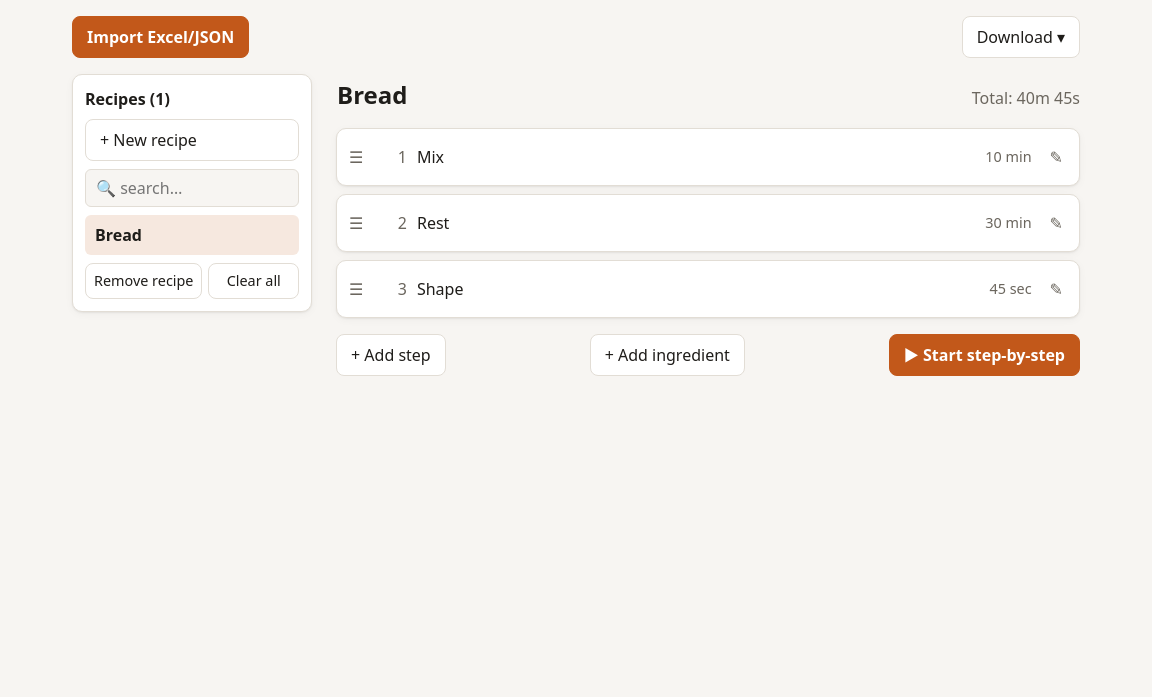
Test: switching a step to ingredient renumbers
Earlier steps of the test are not shown.
Click the button named "Edit step 1" at (1056, 157), box [1042,139,1071,175]
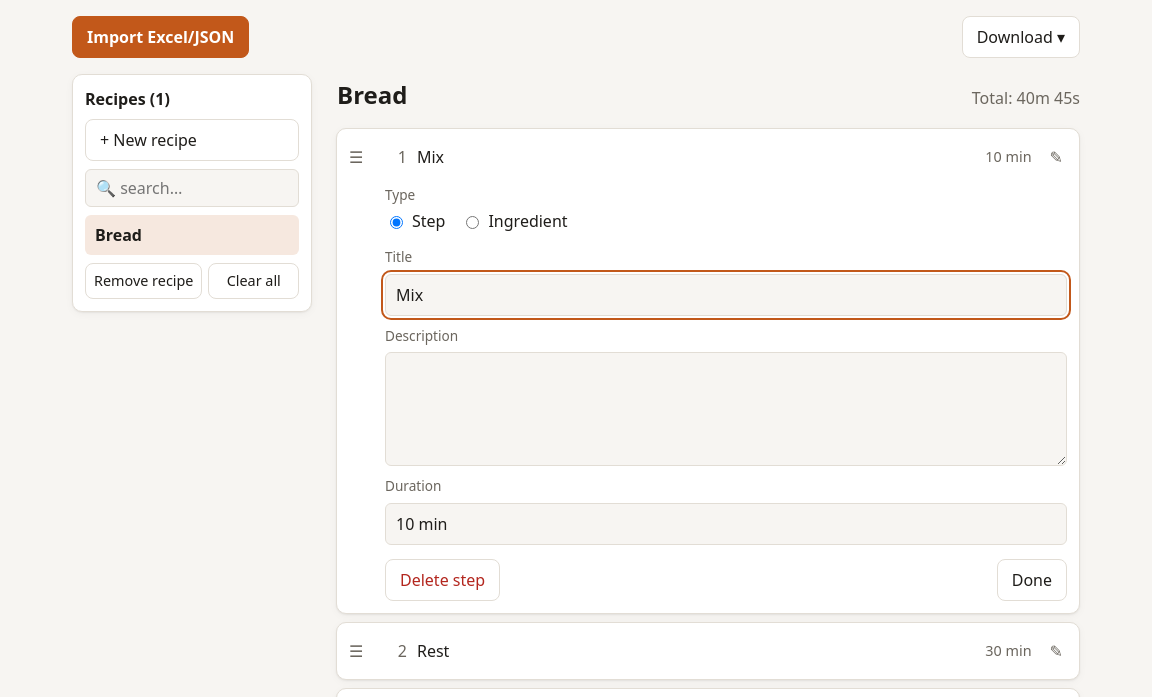
Click the radio button labelled "Ingredient" at (473, 223), box [466,216,479,229]
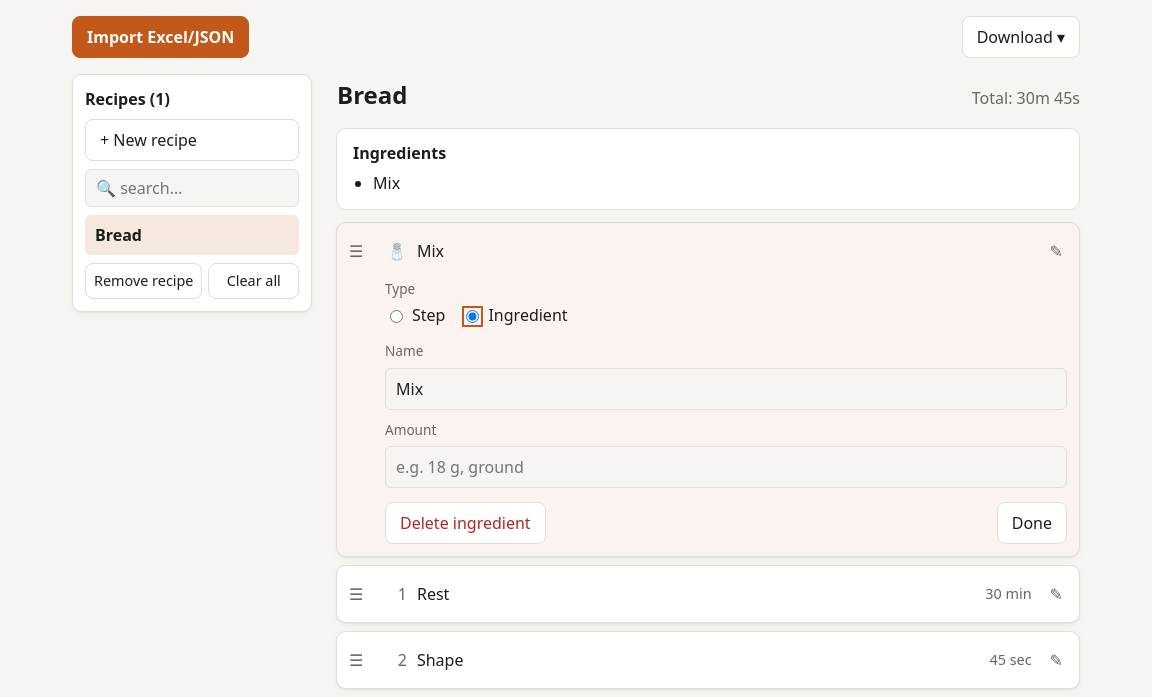
Expected: the button named "Edit ingredient 1" is shown, [1042,233,1071,269]
Expected: the button named "Edit step 2" is shown, [1042,642,1071,678]
